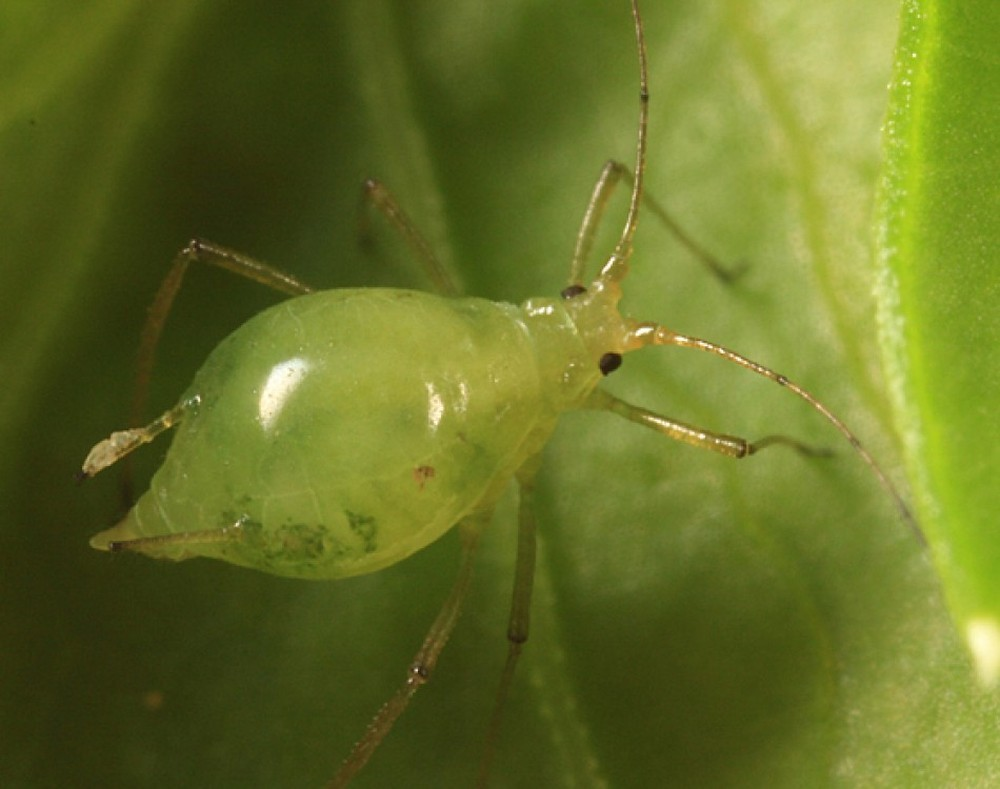Pulgon: (74, 85, 918, 767)
